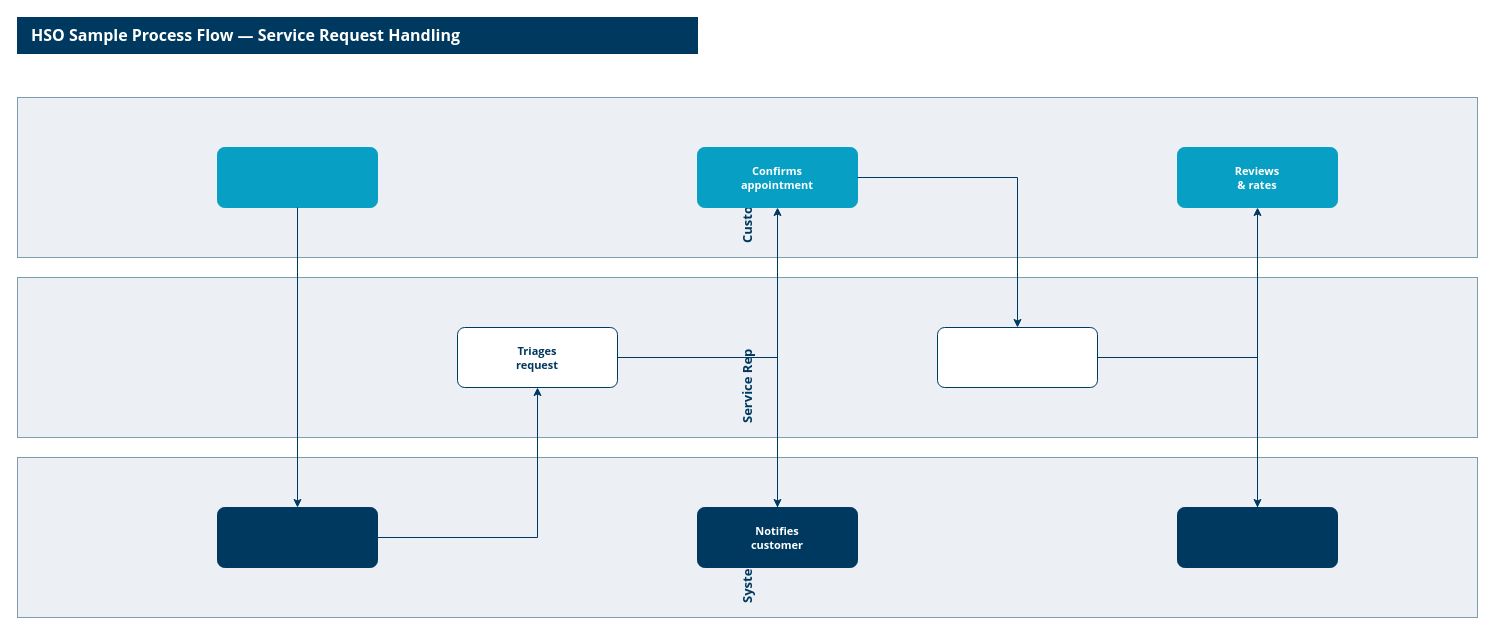
The diagram is 1495 pixels wide and 635 high, and some of its shapes have lost their labels. Here are the shapes that lost their labels. From the top down, the centre of each, then its label:
At pixel 297 177: "Submits service request".
At pixel 1017 357: "Resolves & closes".
At pixel 297 537: "Creates case record".
At pixel 1257 537: "Sends survey & archives".
